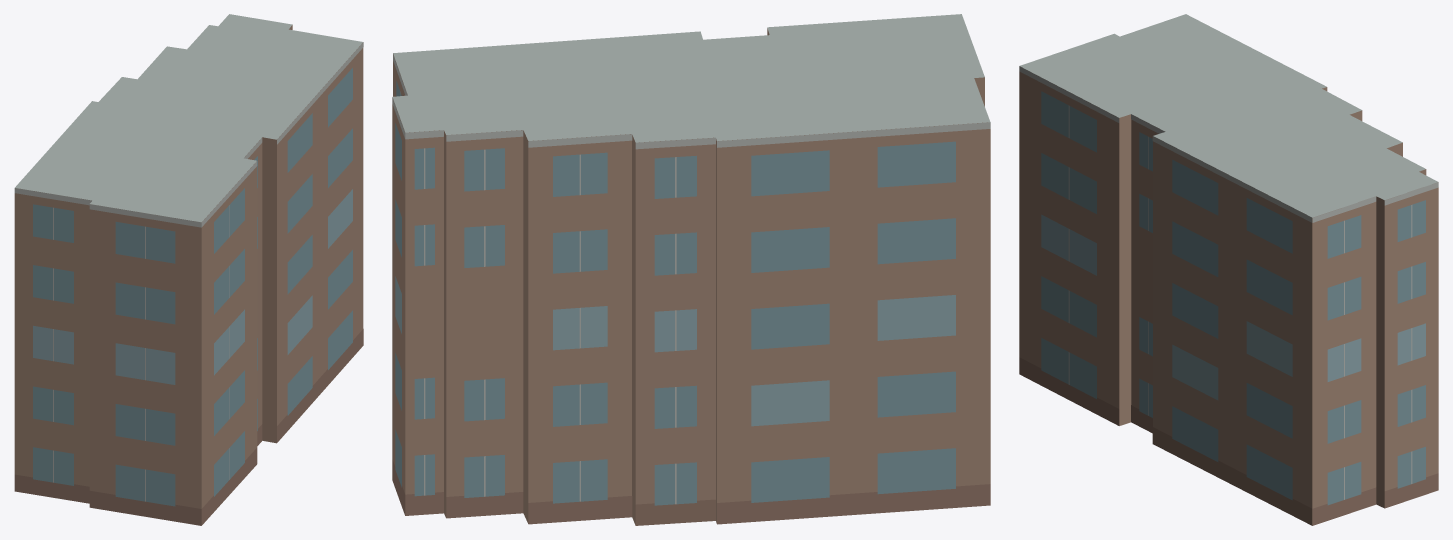
The model's file is survey-upis-32681763.glb.
3 views of the same model, side by side, from view 1: azimuth 30°, elevation 25°; view 2: azimuth 150°, elevation 25°; view 3: azimuth 270°, elevation 25° (orthographic). The views are drawn at different scales.
Visible parts, largest first — view 1: survey-upis-32681763.tmp; view 2: survey-upis-32681763.tmp; view 3: survey-upis-32681763.tmp.
Boxes of the visible parts, bbox=[...] form: survey-upis-32681763.tmp: bbox=[14, 14, 363, 525]; survey-upis-32681763.tmp: bbox=[392, 14, 990, 525]; survey-upis-32681763.tmp: bbox=[1019, 14, 1438, 525].
Bounding box in the file's own units: 19.85 × 14 × 17.27.
